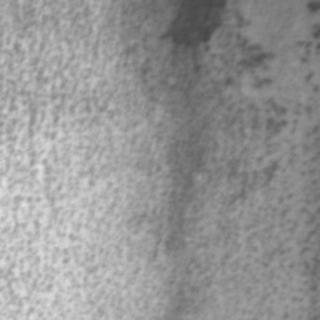patches: (152, 0, 228, 48)
pitted_surface: (7, 0, 200, 308), (183, 3, 317, 315)
